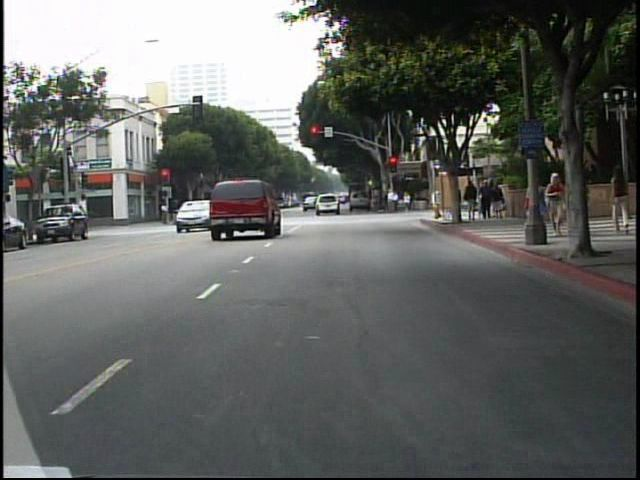person: (606, 161, 630, 235), (541, 171, 565, 236), (583, 170, 600, 239), (464, 177, 480, 223), (430, 187, 445, 220), (160, 200, 173, 229)
